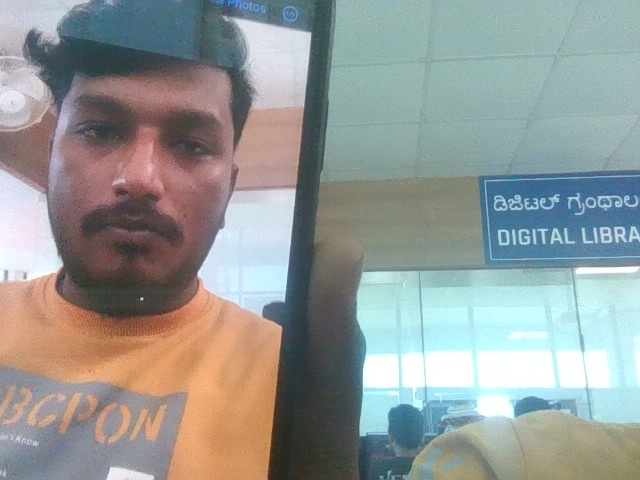fake: (16, 0, 262, 348)
